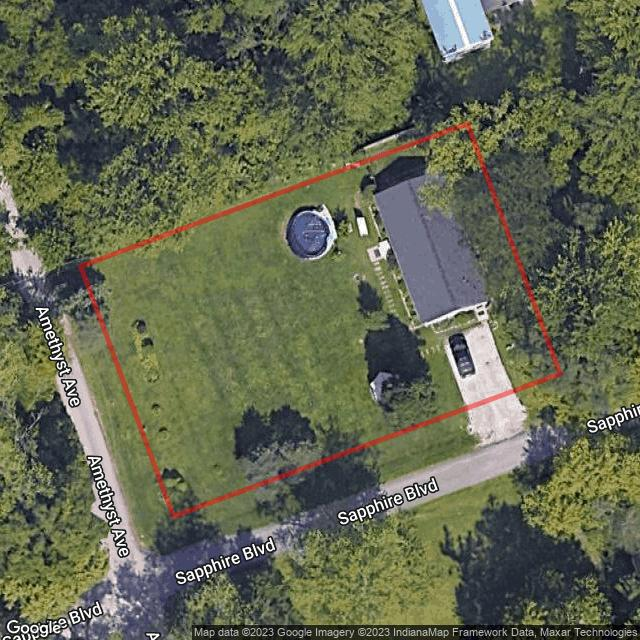Driveway: (438, 308, 512, 406)
Extra Driveway: (468, 394, 526, 448)
Extra Lawn: (135, 410, 484, 556), (49, 267, 171, 534), (515, 376, 581, 435)
House: (375, 172, 493, 322)
Other: (286, 204, 338, 259), (370, 370, 403, 405), (368, 240, 390, 262), (474, 302, 489, 322), (357, 216, 366, 236)
Sidewalk: (371, 261, 445, 366)
